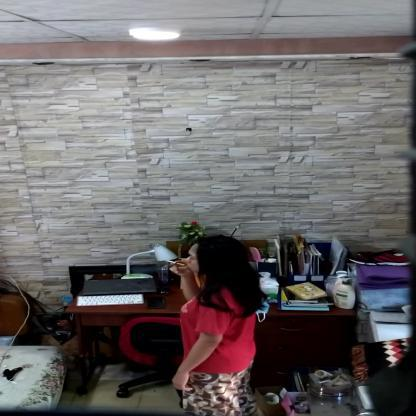cigarette: (164, 260, 185, 266)
person: (173, 234, 264, 415)
